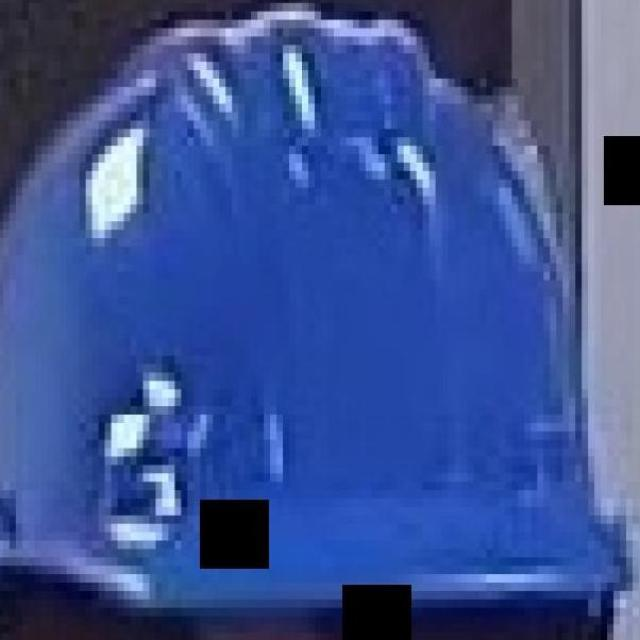blue helmet: (6, 12, 636, 620)
